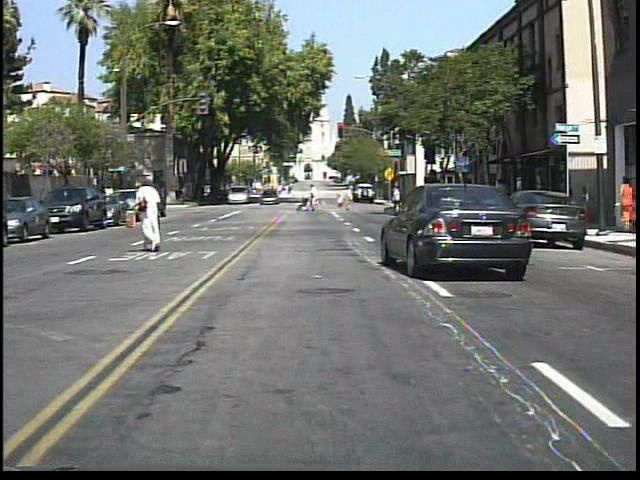person: (127, 171, 171, 260), (618, 166, 637, 236), (492, 171, 513, 220), (387, 179, 405, 210), (310, 182, 323, 212)
